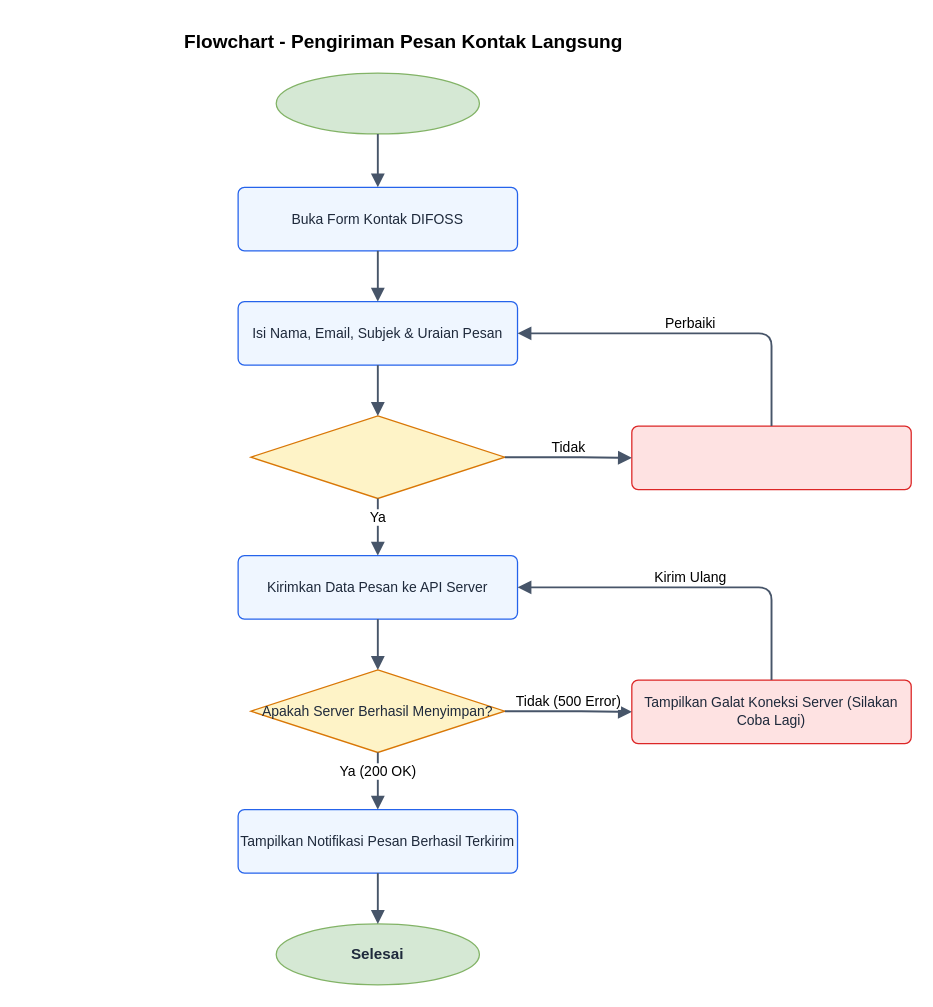
This 933x1007 diagram has some shape labels left out. Each missing label, with the box of its shape:
Apakah Isian Lengkap & Format Valid?: (250, 415, 505, 498)
Mulai: (275, 72, 479, 134)
Tampilkan Pesan Peringatan Format Salah: (631, 425, 911, 490)
